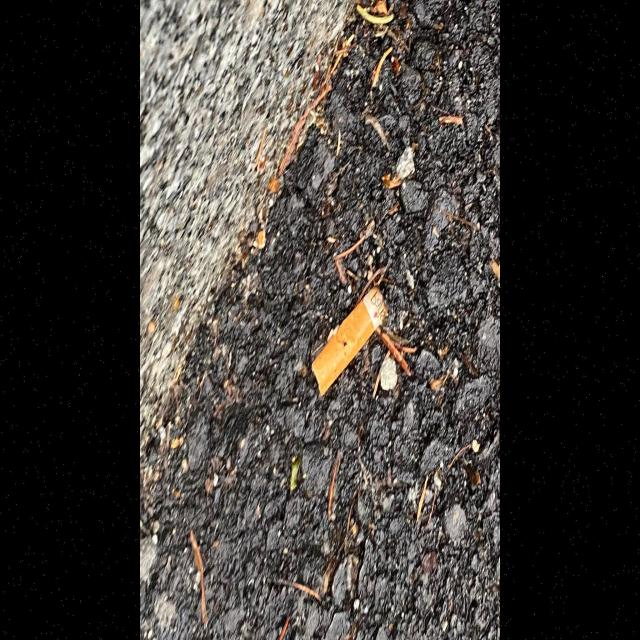other waste: (311, 284, 388, 397)
